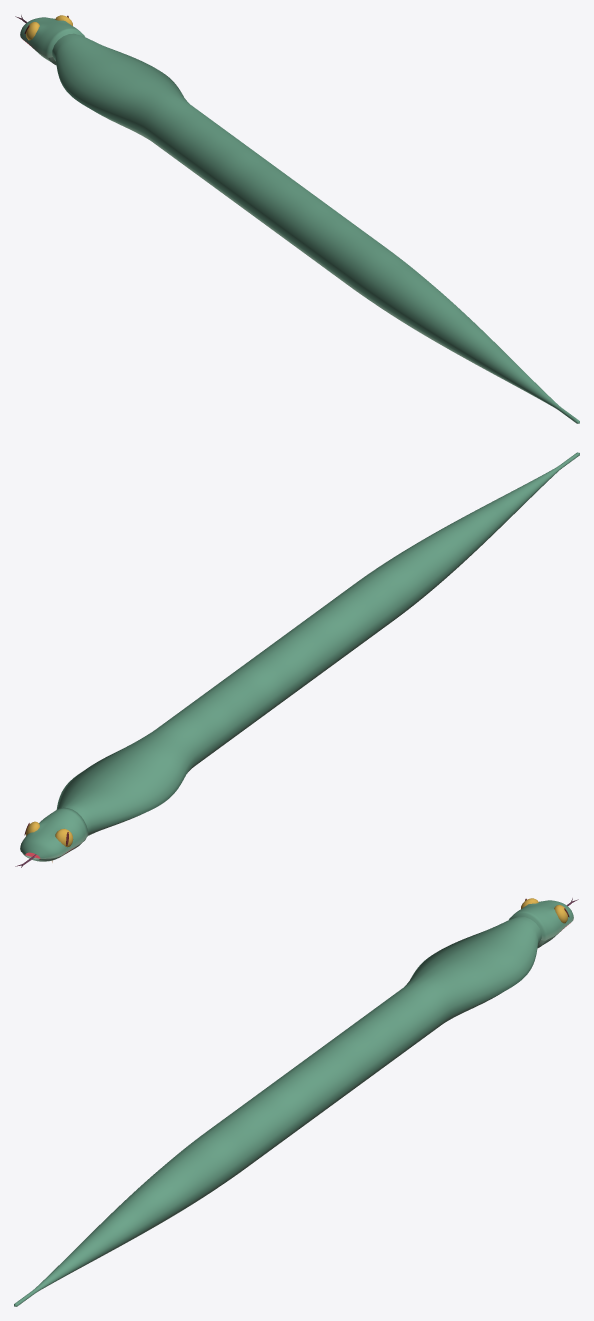
File: snake.glb
The picture shows the model from 3 angles, top to bottom: view 1: azimuth 30°, elevation 25°; view 2: azimuth 150°, elevation 25°; view 3: azimuth 330°, elevation 25°; orthographic projection.
Parts seen in each view (by area): view 1: snake; view 2: snake; view 3: snake.
Part boxes in pixels (x1,y1,x2,y2): snake: (20,15,579,423); snake: (20,452,579,862); snake: (14,898,573,1306).
Size of the model in its own units: 0.45 by 0.21 by 4.95.
